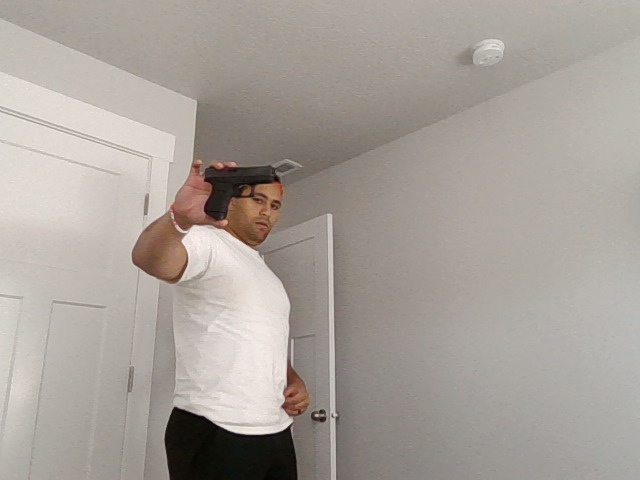handgun: (202, 165, 276, 221)
